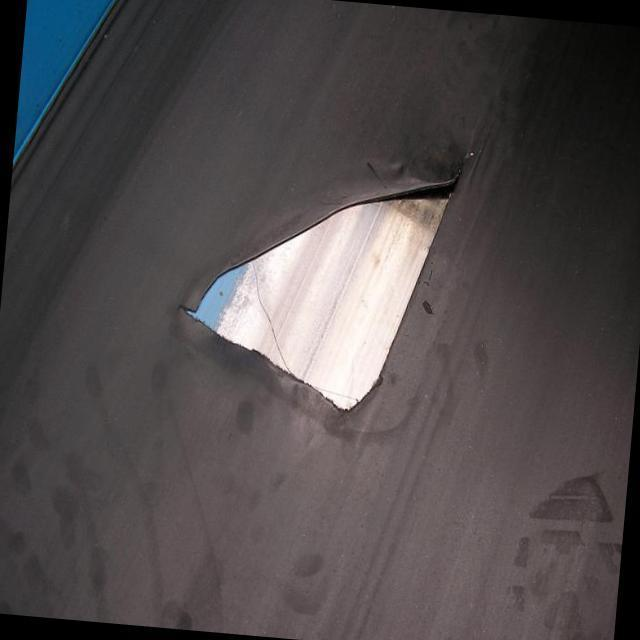Hole: (174, 156, 462, 416)
